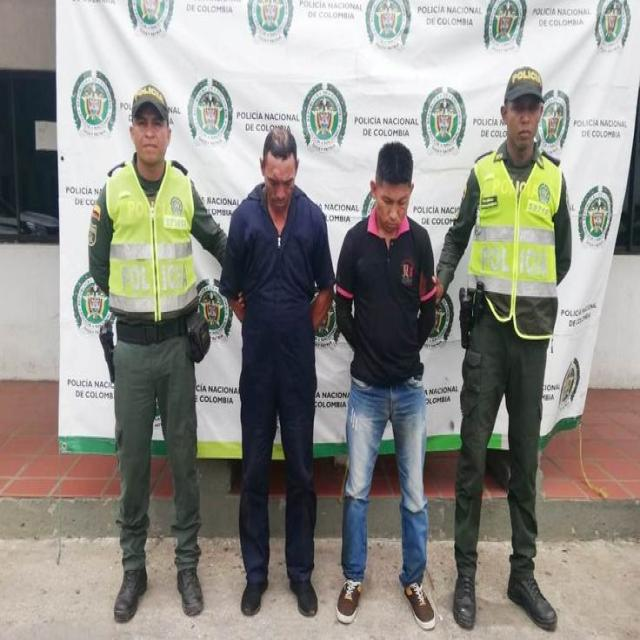9_cabeza_baja: (259, 127, 300, 212)
